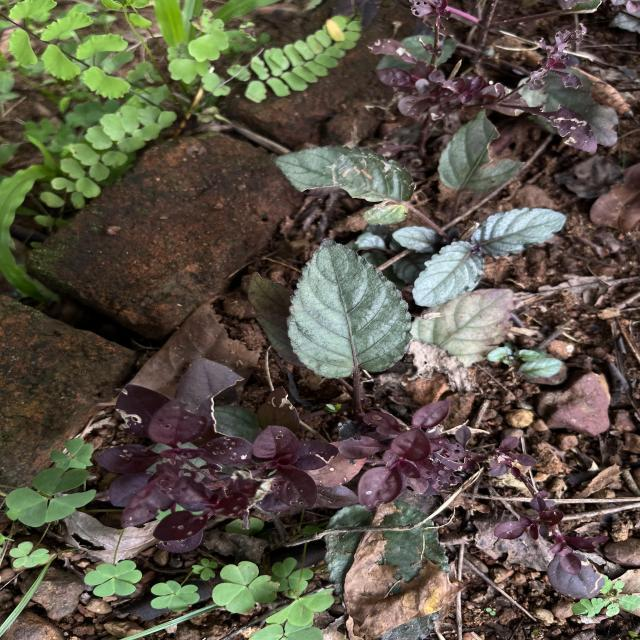Hemigraphis colorata: (284, 235, 416, 381), (468, 203, 568, 260), (409, 238, 486, 308)
